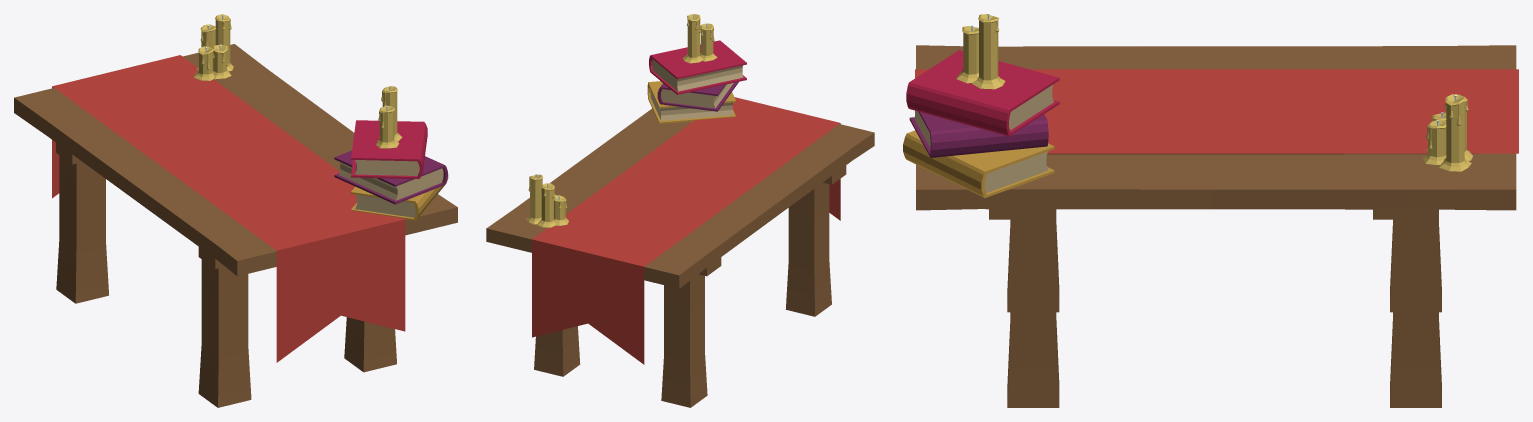
Rendered from table.fbx.
3 views of the same model, side by side, from view 1: azimuth 30°, elevation 25°; view 2: azimuth 150°, elevation 25°; view 3: azimuth 270°, elevation 25° (orthographic). The views are drawn at different scales.
Parts seen in each view (by area): view 1: Cloth, Table1, Book30, Book31, Book32, Candel5, Candel8, Candel4, Candel7; view 2: Cloth, Table1, Book30, Book32, Book31, Candel5, Candel7, Candel8, Candel4; view 3: Table1, Cloth, Book30, Book32, Book31, Candel5, Candel7, Candel8.
Boxes of the visible parts, box(x1,y1,x2,y2) form: Cloth: box(52, 55, 405, 362); Table1: box(14, 44, 457, 407); Book30: box(351, 120, 427, 179); Book31: box(334, 150, 447, 204); Book32: box(351, 174, 448, 220); Candel5: box(196, 14, 233, 79); Candel8: box(376, 105, 399, 148); Candel4: box(194, 46, 214, 80); Candel7: box(379, 86, 402, 141); Cloth: box(532, 97, 840, 364); Table1: box(486, 108, 874, 407); Book30: box(649, 40, 746, 94); Book32: box(647, 81, 735, 123); Book31: box(657, 82, 738, 111); Candel5: box(526, 174, 556, 227); Candel7: box(682, 14, 702, 63); Candel8: box(700, 23, 717, 61); Candel4: box(554, 195, 568, 225); Table1: box(916, 45, 1516, 407); Cloth: box(915, 69, 1518, 153); Book30: box(906, 50, 1059, 136); Book32: box(903, 130, 1054, 198); Book31: box(909, 110, 1048, 157); Candel5: box(1423, 94, 1472, 171); Candel7: box(972, 14, 1005, 89); Candel8: box(956, 25, 978, 83).
Bounding box in the file's own units: 56.24 × 65.44 × 94.92.
